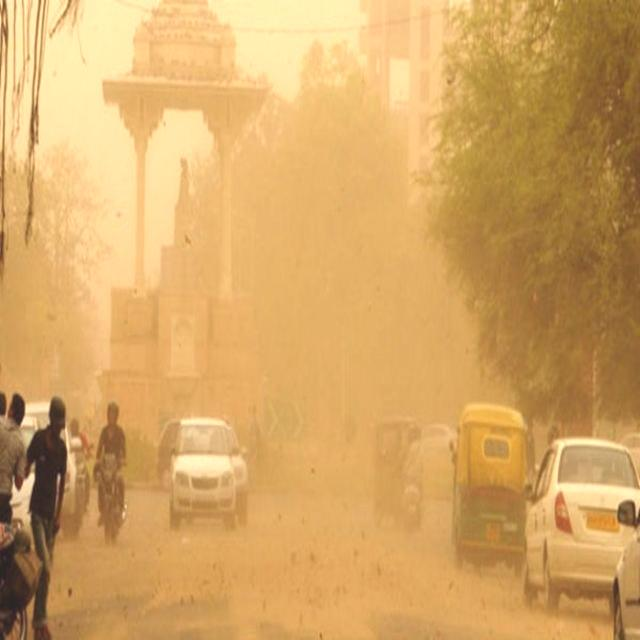Car: (524, 427, 639, 620), (448, 398, 528, 587), (170, 401, 231, 542), (217, 404, 259, 520), (612, 479, 640, 636), (424, 408, 457, 492)
Cycle: (90, 378, 128, 530), (400, 426, 428, 558)
